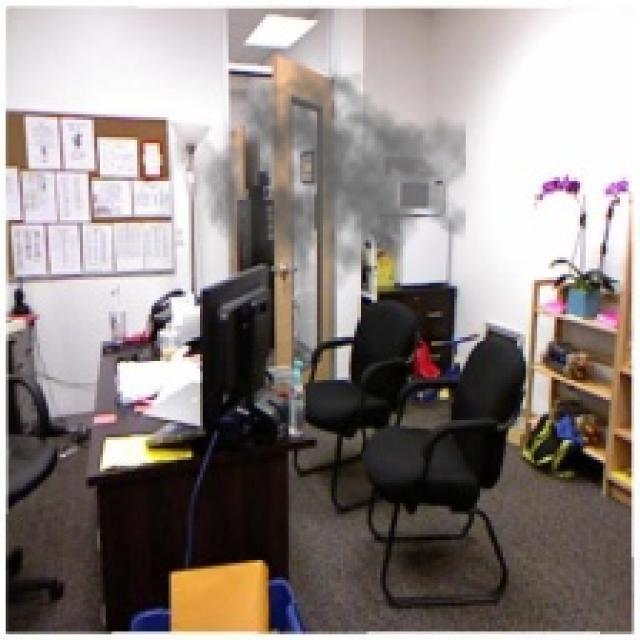Smoke: (203, 60, 466, 303)
